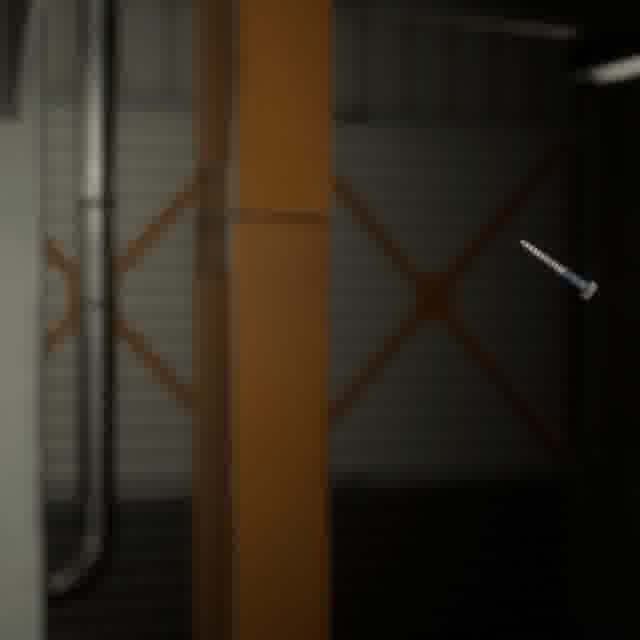bolt: (513, 233, 602, 304)
